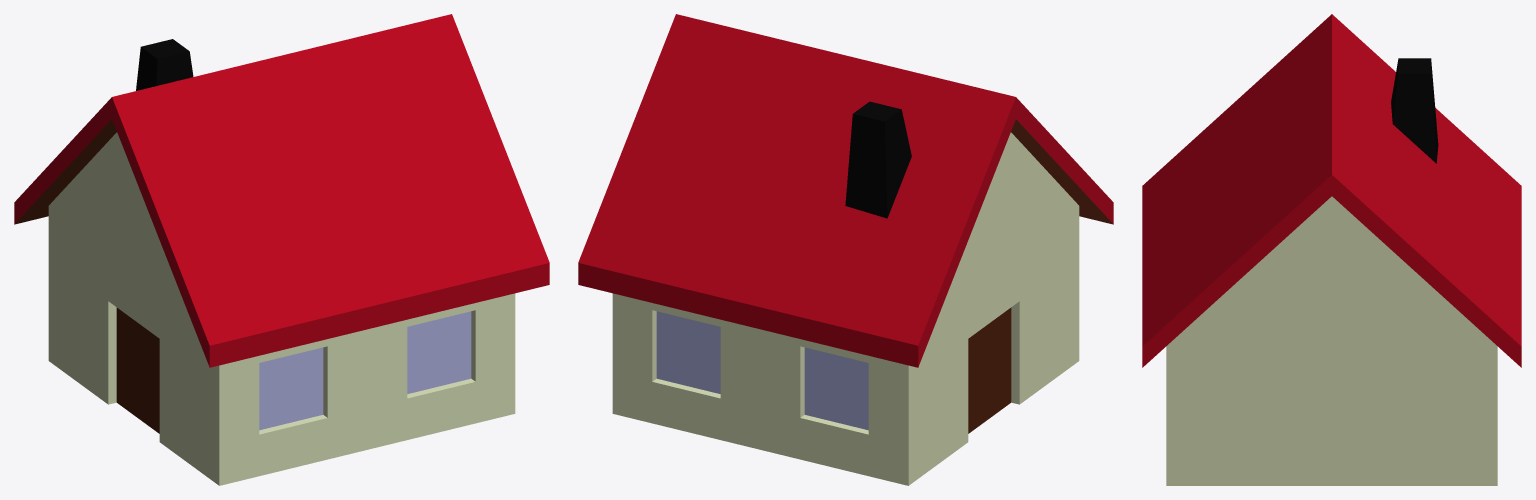
File: house.glb
3 views of the same model, side by side, from view 1: azimuth 30°, elevation 25°; view 2: azimuth 150°, elevation 25°; view 3: azimuth 270°, elevation 25° (orthographic). The views are drawn at different scales.
Visible parts, largest first — view 1: Cube; view 2: Cube; view 3: Cube.
Boxes of the visible parts, x1,y1,x2,y2 form: Cube: [14, 14, 549, 485]; Cube: [578, 14, 1113, 485]; Cube: [1142, 14, 1521, 485].
Bounding box in the file's own units: 1.15 × 1.07 × 1.14.
